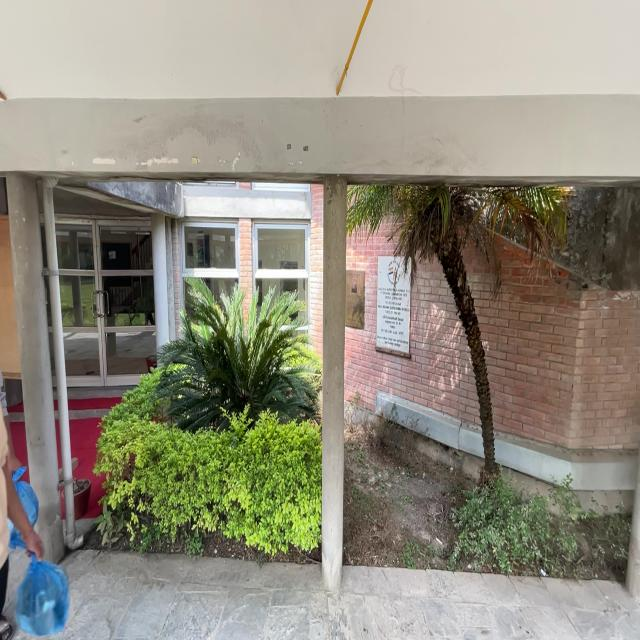carryload: (4, 514, 64, 636), (0, 435, 41, 550)
